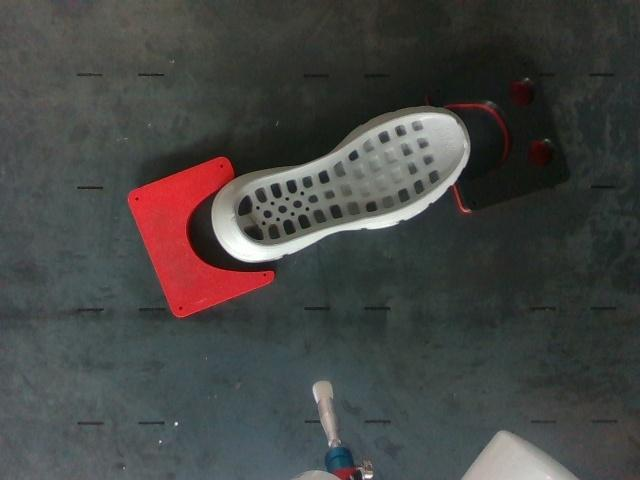shoes: (234, 114, 465, 246)
